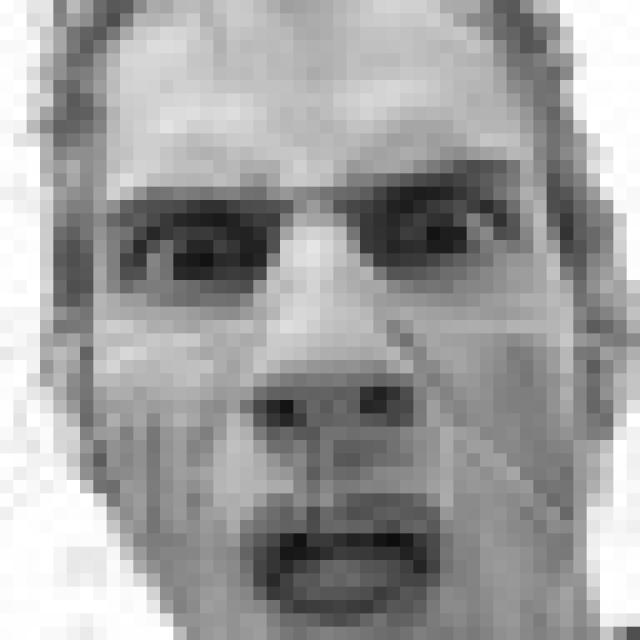disgust: (129, 144, 527, 640)
